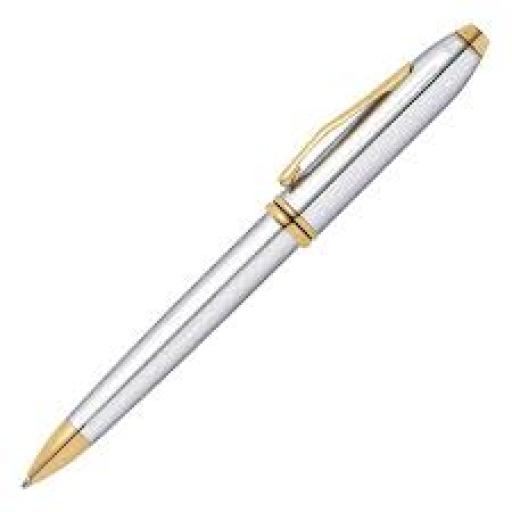tukenmez-kalem: (6, 0, 512, 499)
